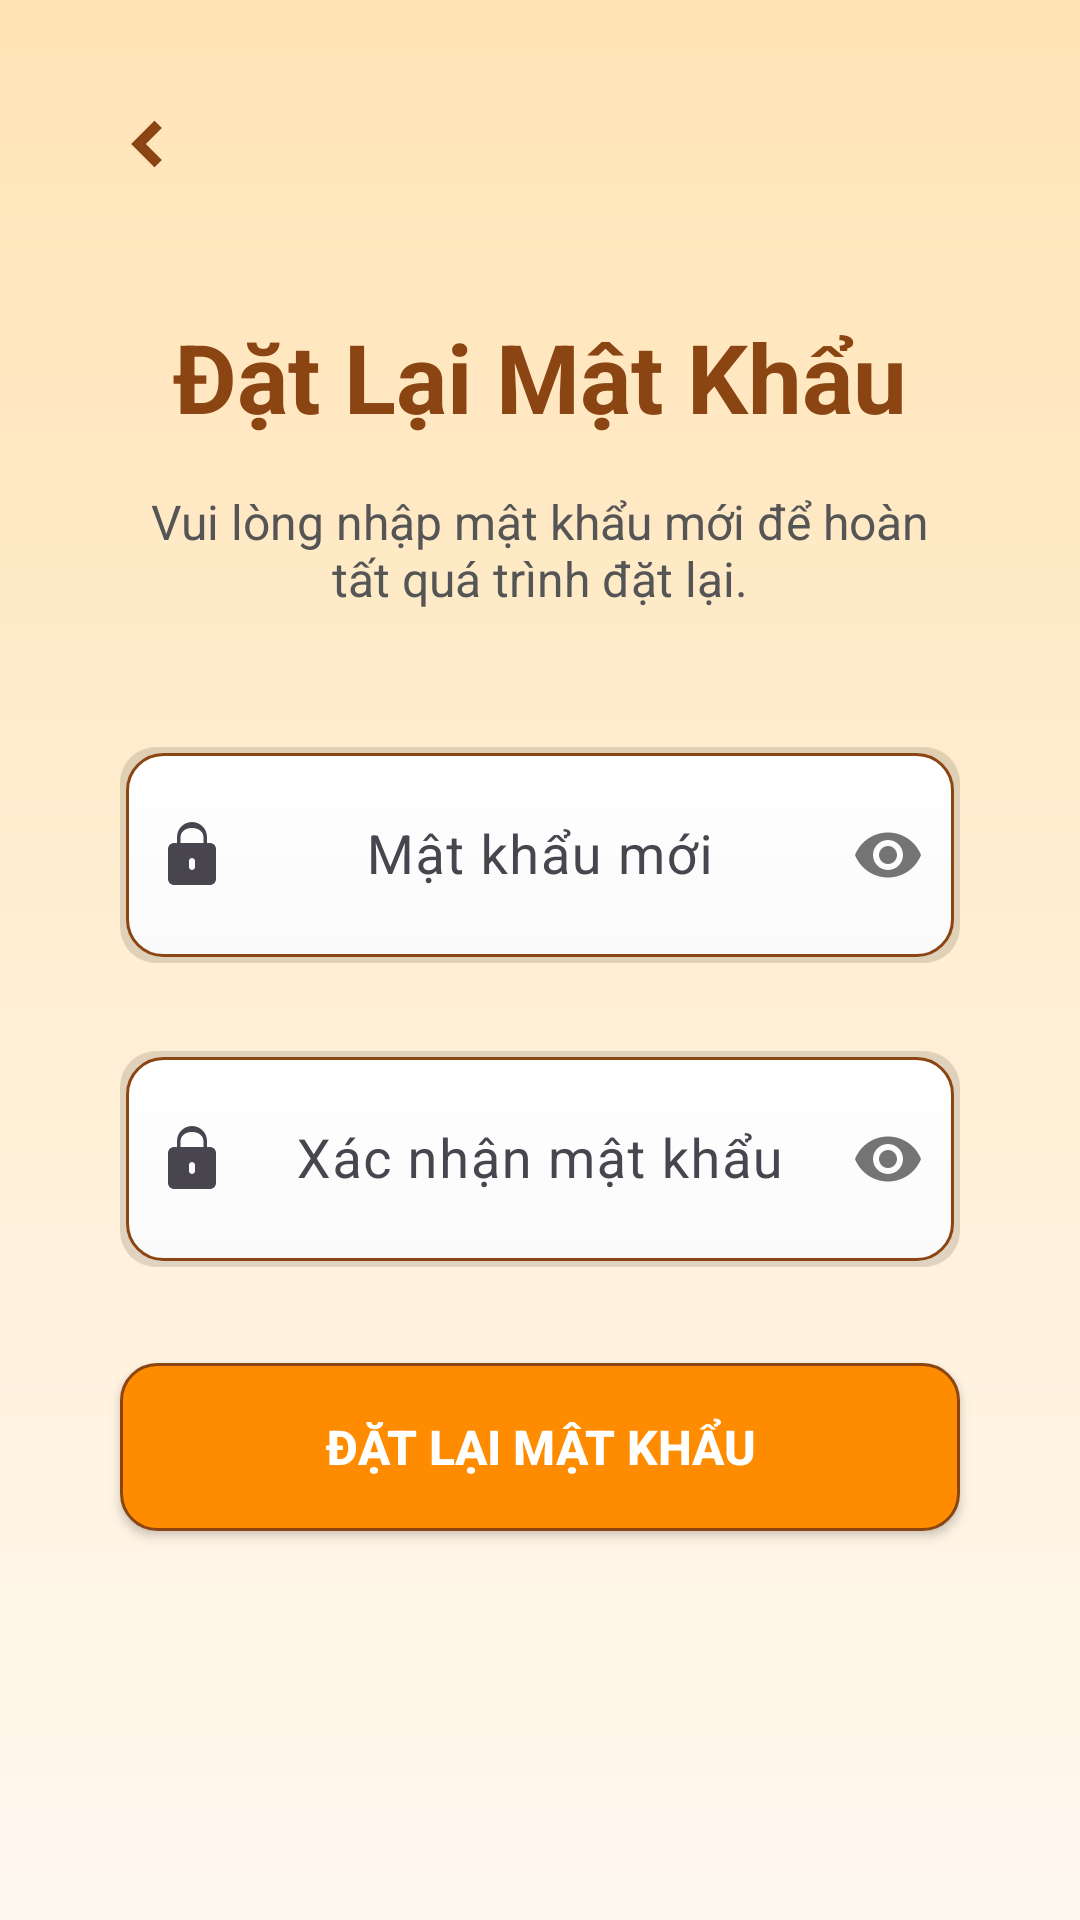

Where to tap for icons on this 1080 x 1920 app screen, as point (x, y):
Back: point (146, 144)
